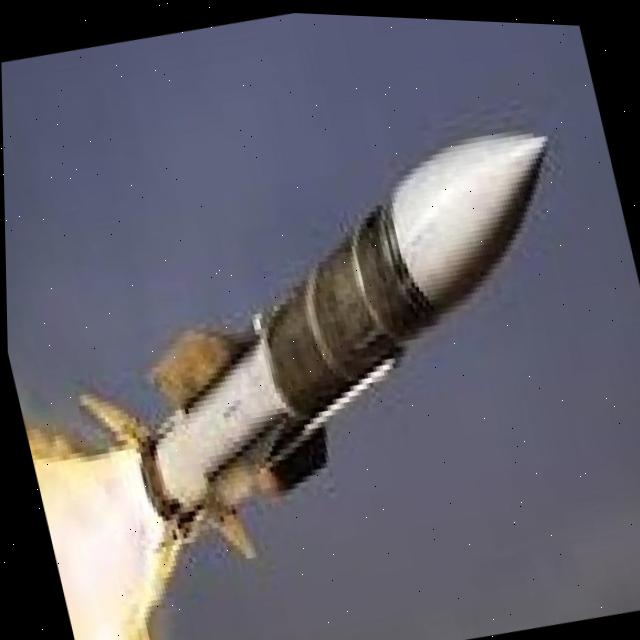missile: (16, 94, 630, 592)
